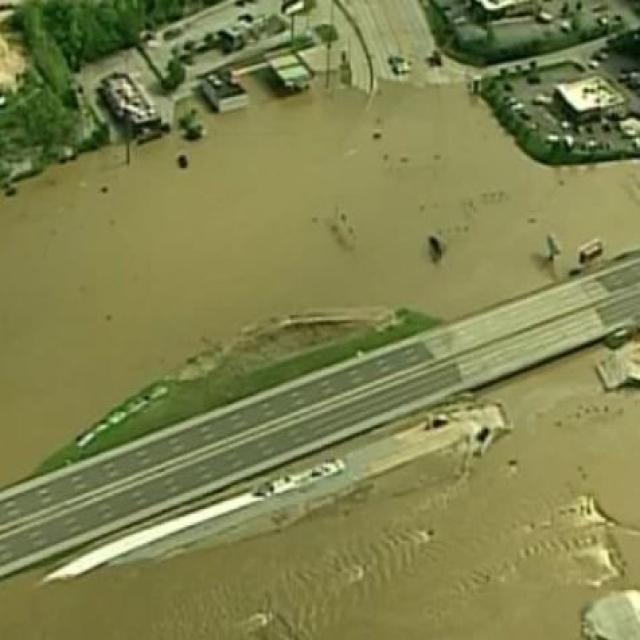flooded_areas: (0, 40, 579, 410), (2, 370, 630, 638)
